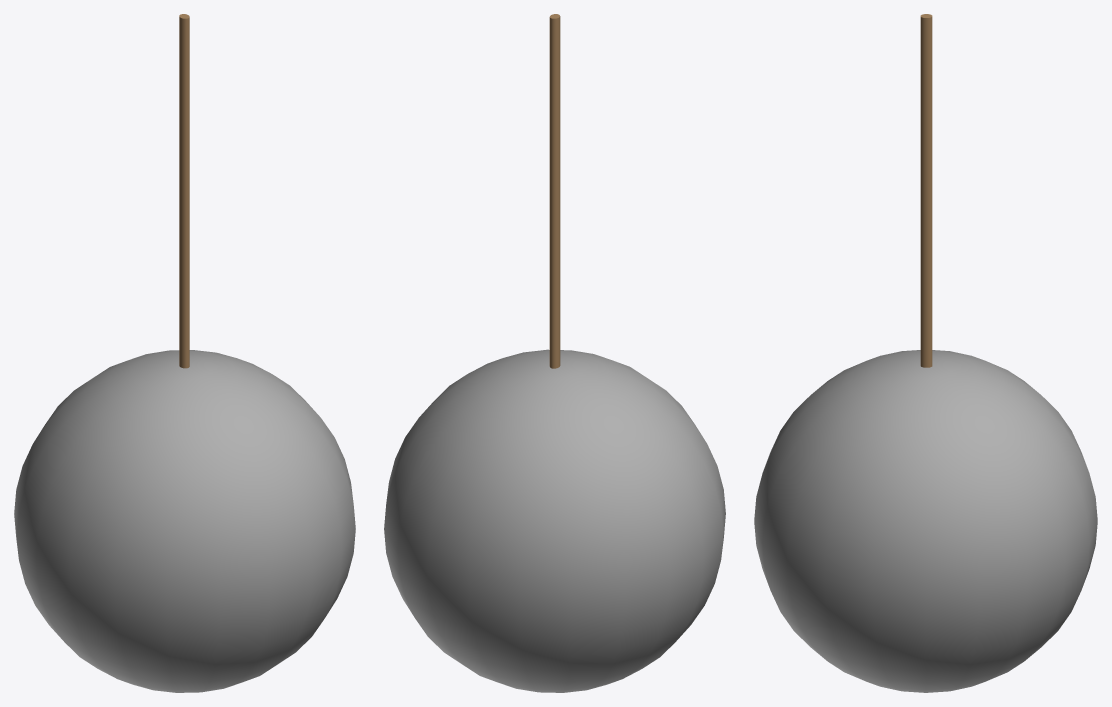
File: Aquatic_Bubble_large.fbx
3 renders of one model, left to right at view 1: azimuth 30°, elevation 25°; view 2: azimuth 150°, elevation 25°; view 3: azimuth 270°, elevation 25°, orthographic.
Parts seen in each view (by area): view 1: pSphere2, pCylinder2; view 2: pSphere2, pCylinder2; view 3: pSphere2, pCylinder2.
Part boxes in pixels (x1,y1,x2,y2): pSphere2: (14, 350, 355, 692); pCylinder2: (179, 14, 189, 368); pSphere2: (384, 349, 725, 692); pCylinder2: (549, 14, 560, 368); pSphere2: (754, 350, 1097, 692); pCylinder2: (920, 14, 932, 367).
Bounding box in the file's own units: 5.8 × 12.3 × 5.8.
